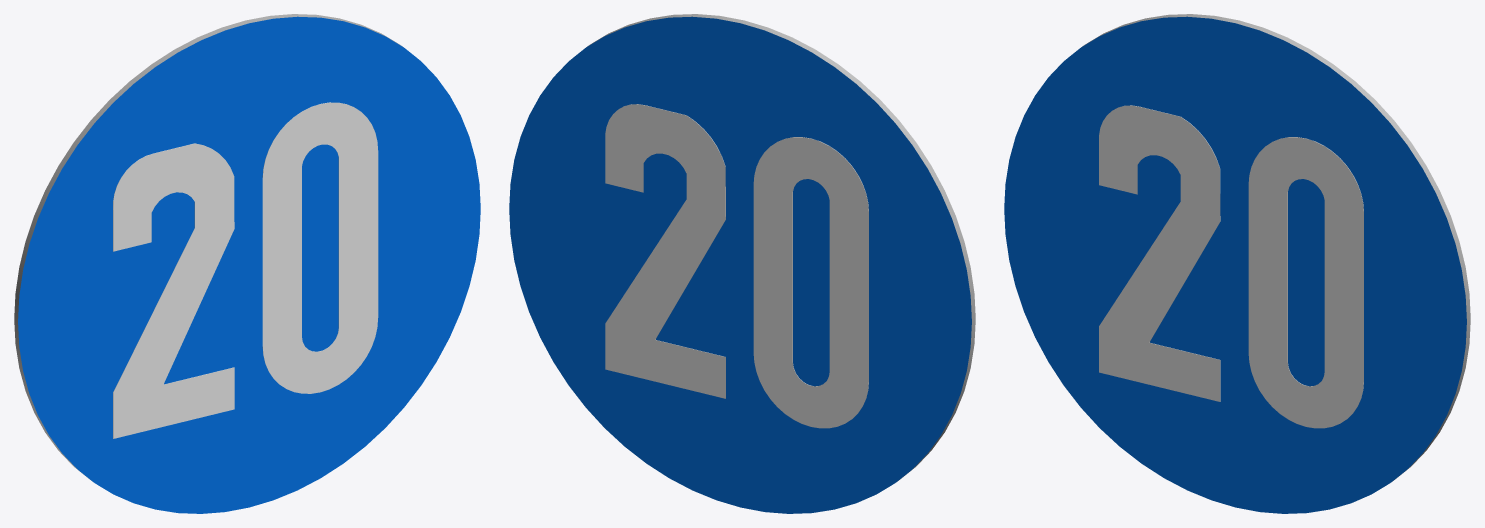
File: r.306_tocdotoithieuchophep_20.glb
3 views of the same model, side by side, from view 1: azimuth 30°, elevation 25°; view 2: azimuth 150°, elevation 25°; view 3: azimuth 330°, elevation 25° (orthographic).
Parts seen in each view (by area): view 1: Solid1, Solid2; view 2: Solid1, Solid3; view 3: Solid1, Solid2.
Boxes of the visible parts, x1,y1,x2,y2 form: Solid1: (14, 14, 480, 513); Solid2: (113, 102, 378, 438); Solid1: (509, 14, 975, 513); Solid3: (605, 104, 868, 428); Solid1: (1004, 14, 1470, 513); Solid2: (1099, 105, 1363, 428).
Size of the model in its own units: 0.7 by 0.7 by 0.011.
